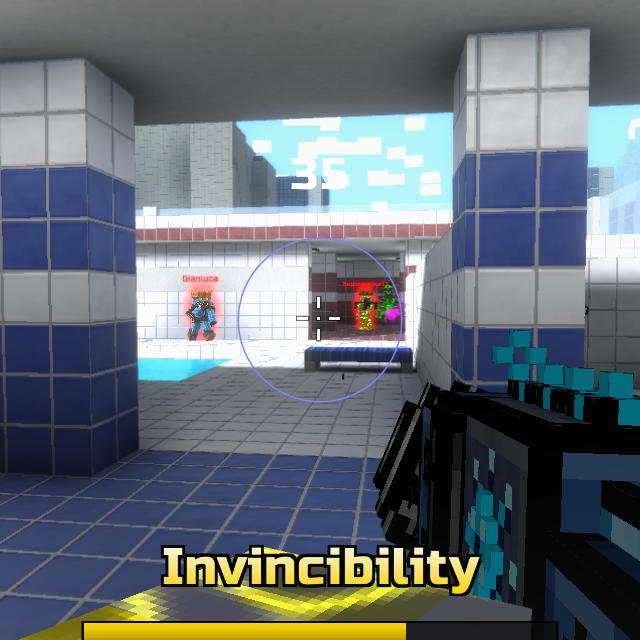Enemy: (186, 291, 217, 342), (353, 291, 377, 331)
